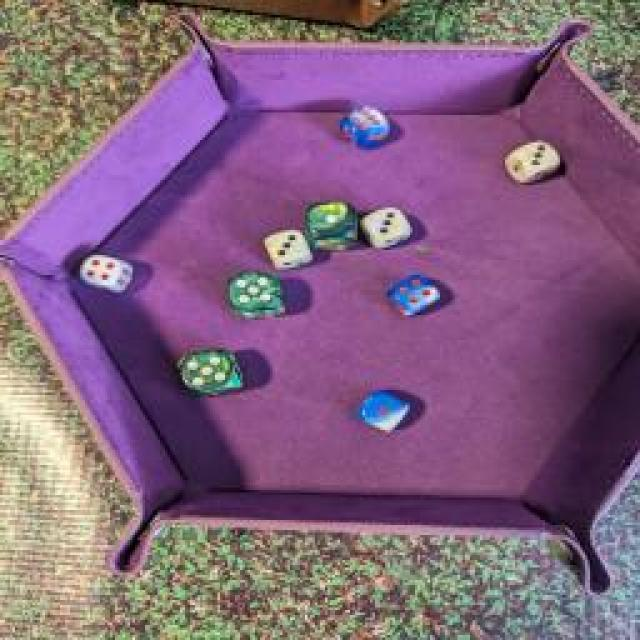dice_1: (299, 197, 361, 255), (348, 385, 412, 435)
dice_3: (501, 135, 564, 180), (256, 226, 316, 272), (358, 204, 412, 254)
dice_4: (384, 272, 444, 316), (82, 252, 138, 292)
dice_5: (174, 349, 244, 401), (219, 271, 289, 321)
dice_6: (334, 105, 394, 147)
